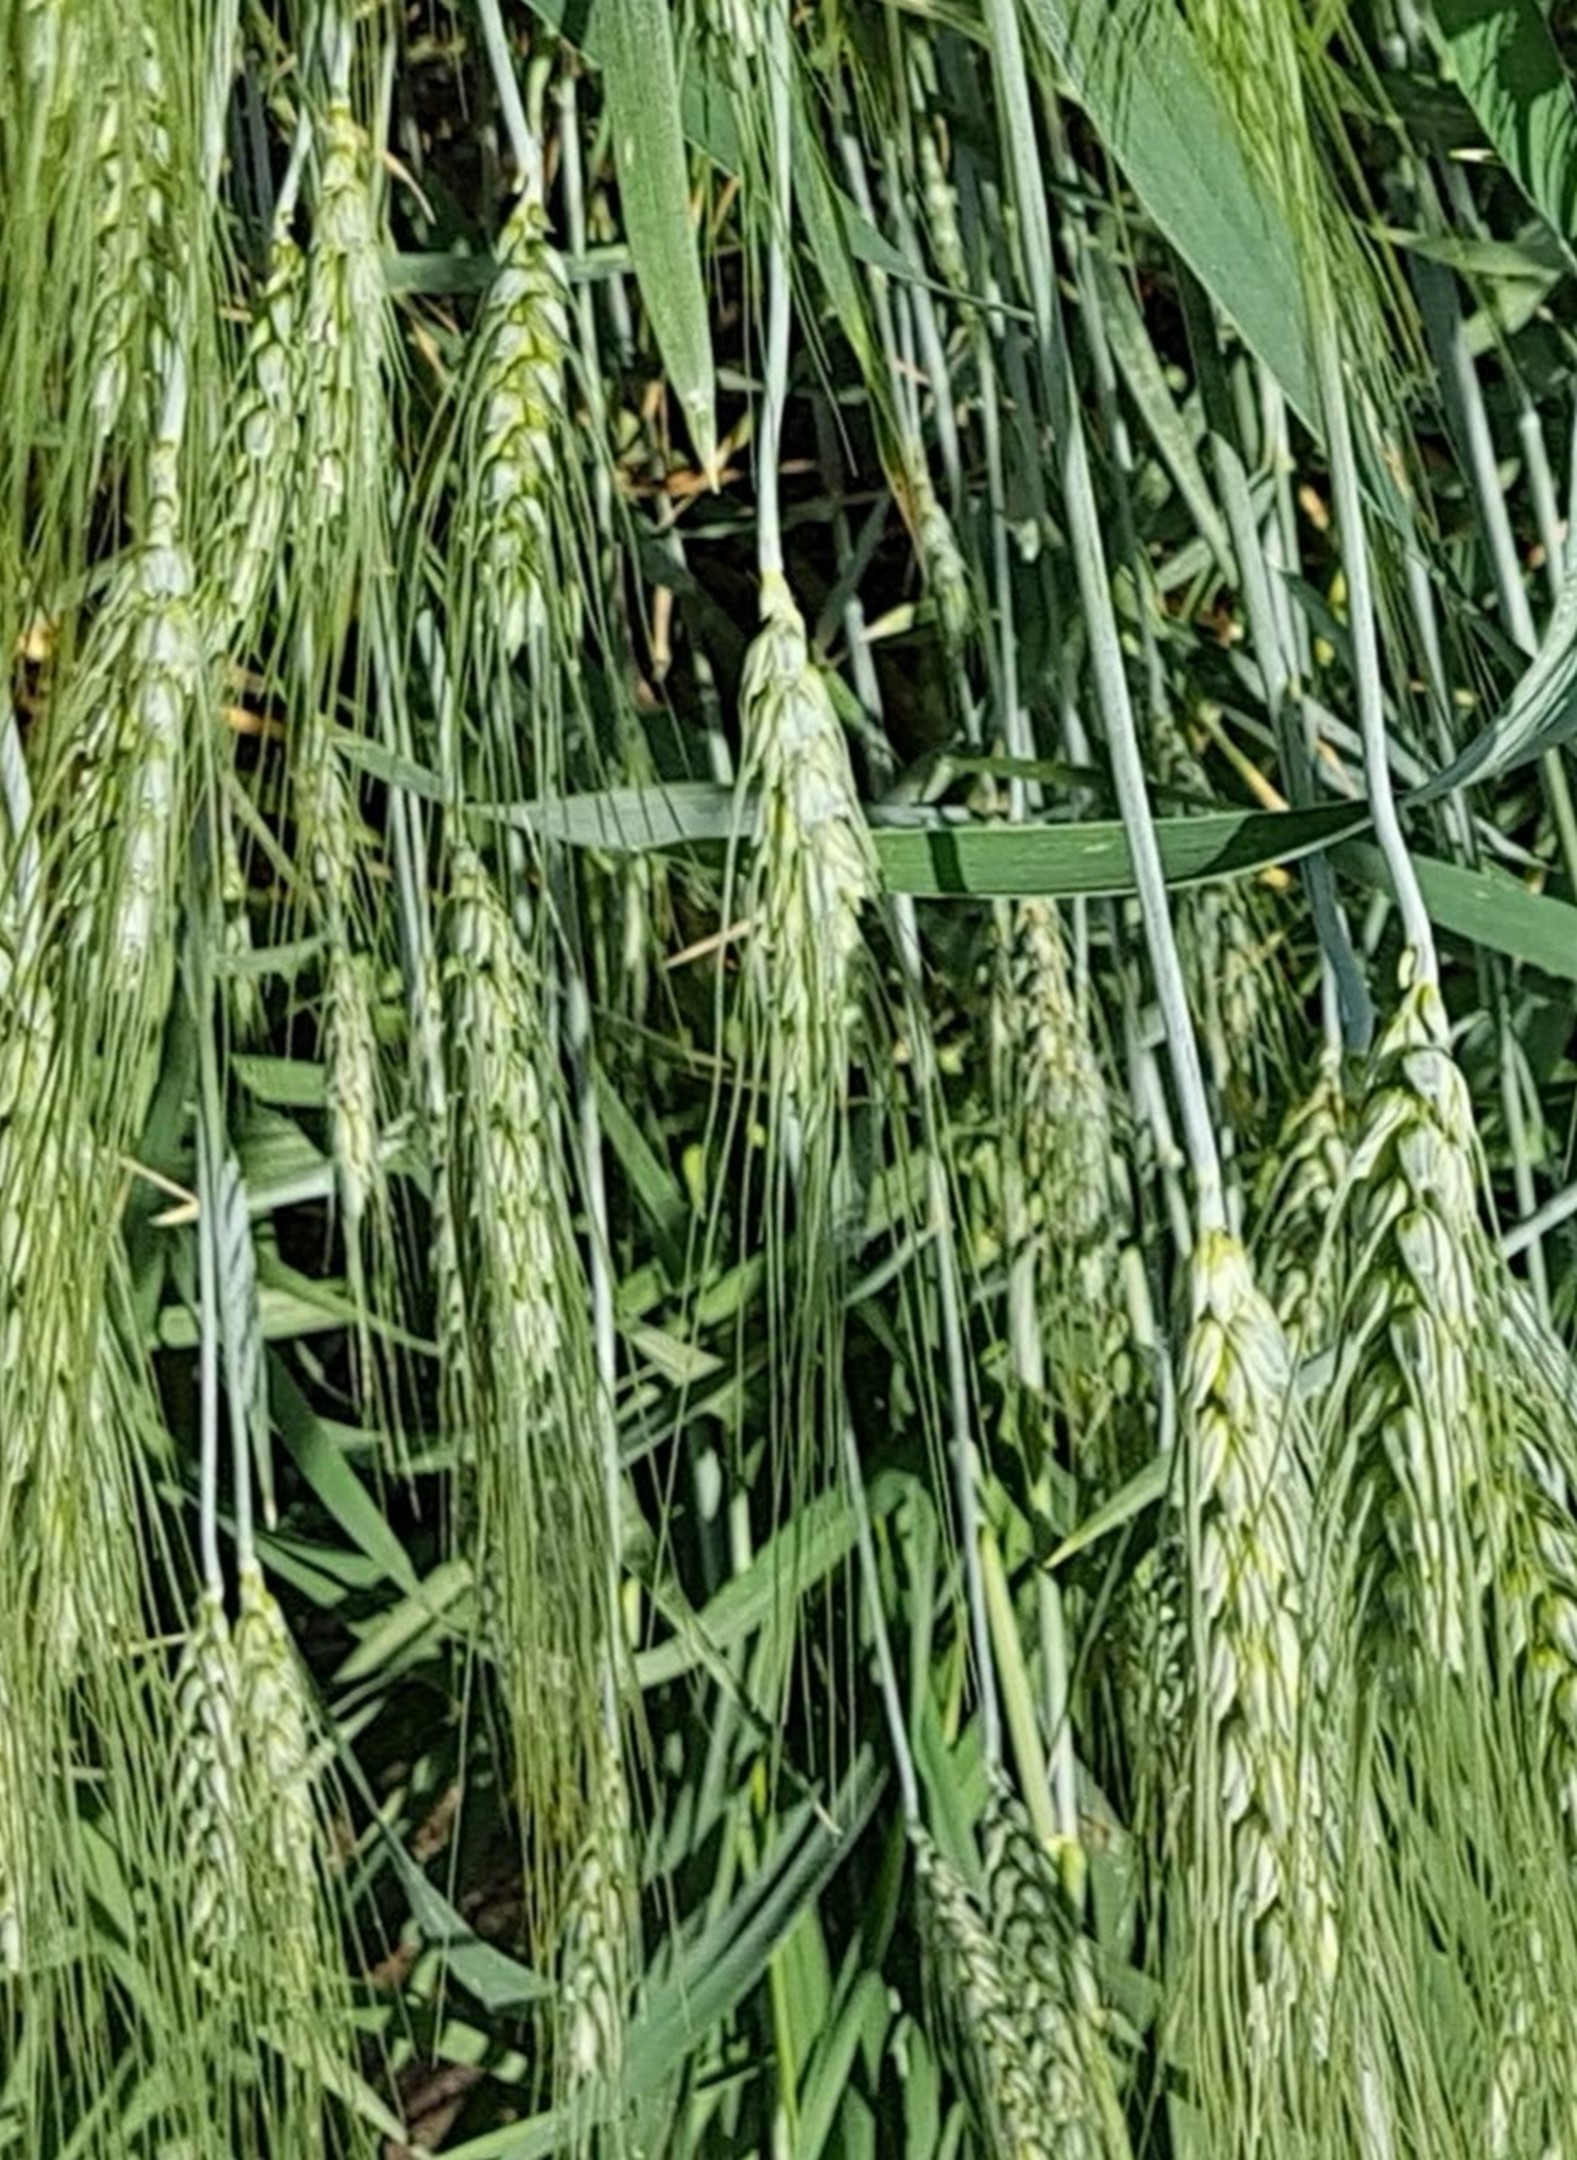Healthy Wheat: (1335, 961, 1498, 1682), (413, 837, 602, 1382), (433, 183, 601, 652)
